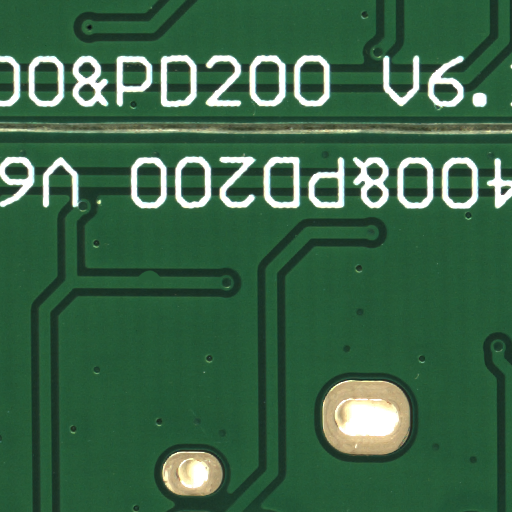Spur: (148, 272, 169, 280)
